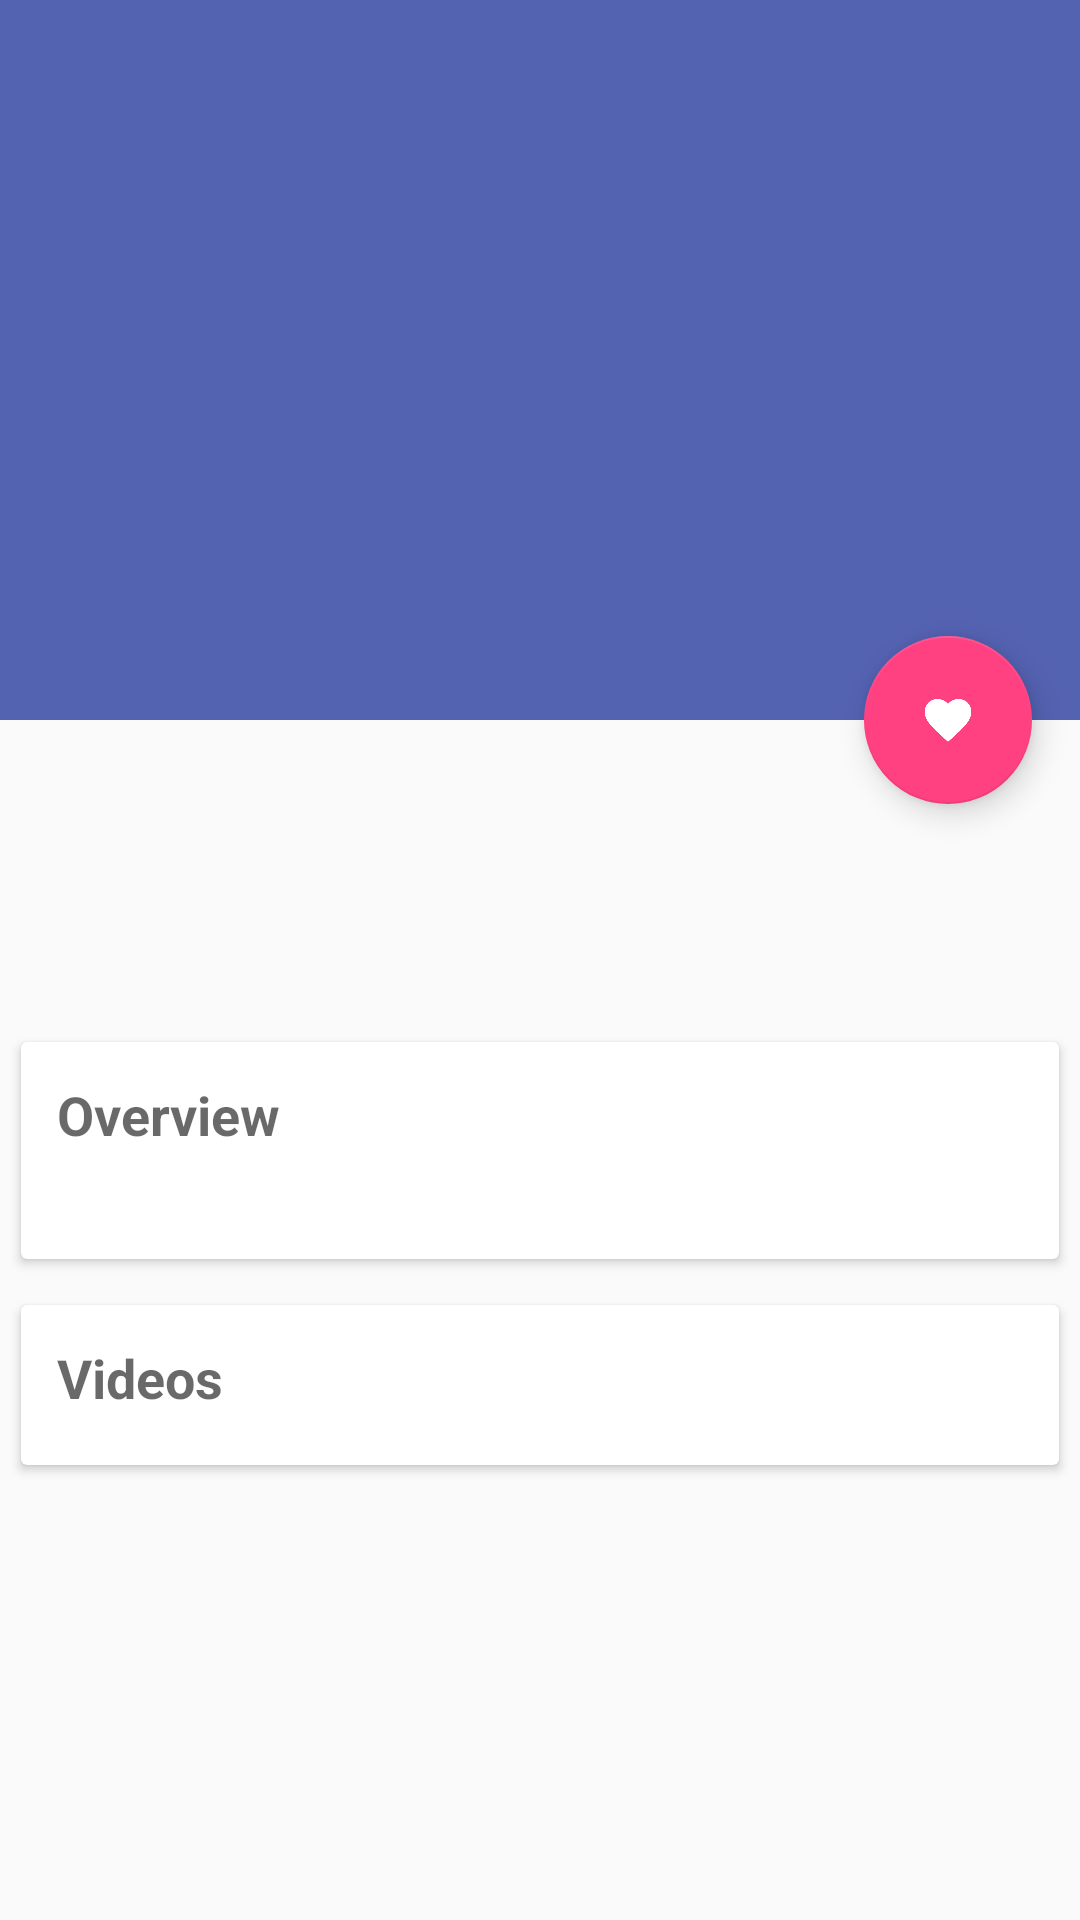

Named icons in this screenshot (1080px x 1920px) and their centers, point (x, y):
favorite: point (948, 720)
